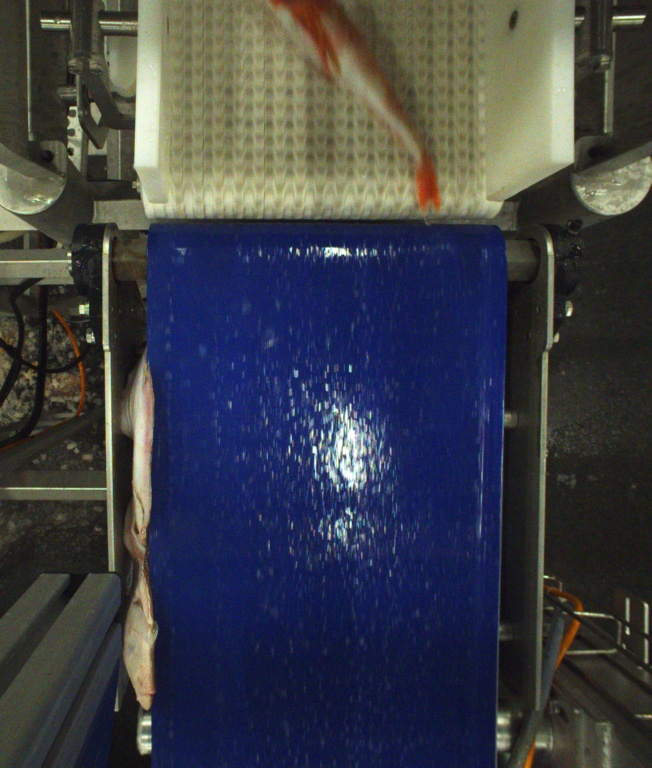GUU: (257, 0, 440, 212)
